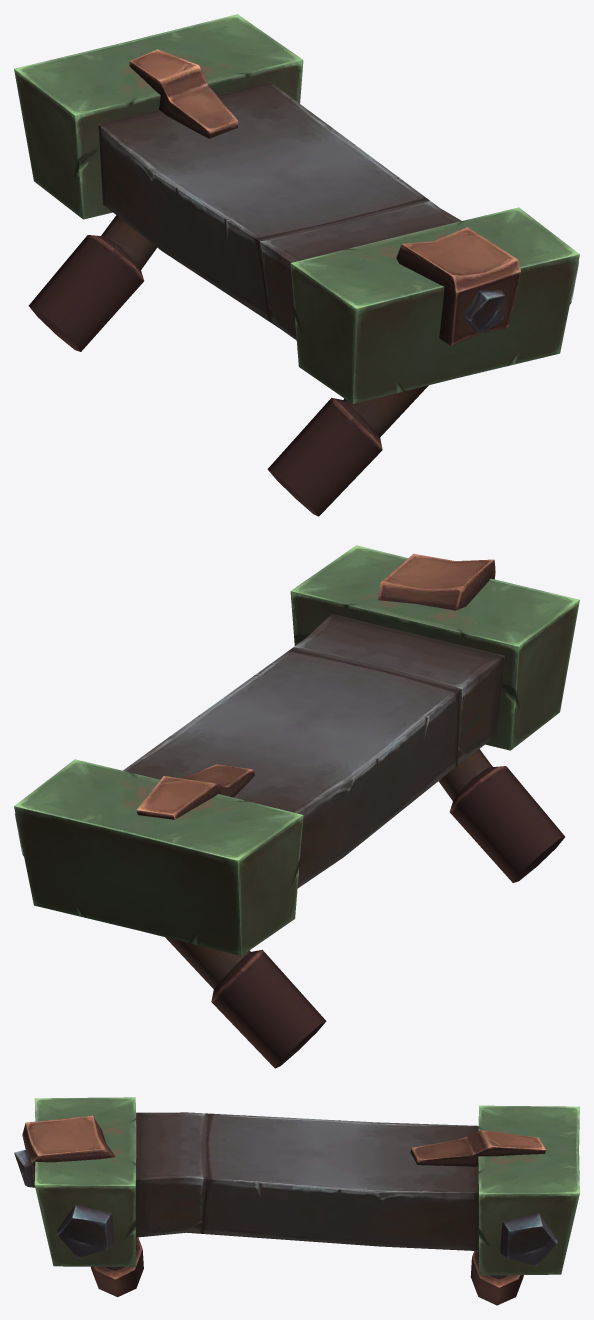
The picture shows the model from 3 angles, top to bottom: view 1: azimuth 30°, elevation 25°; view 2: azimuth 150°, elevation 25°; view 3: azimuth 270°, elevation 25°; orthographic projection. The views are drawn at different scales.
Bounding box in the file's own units: 1.15 × 1.09 × 2.56.
Materials: 1 (1 with a texture image).
